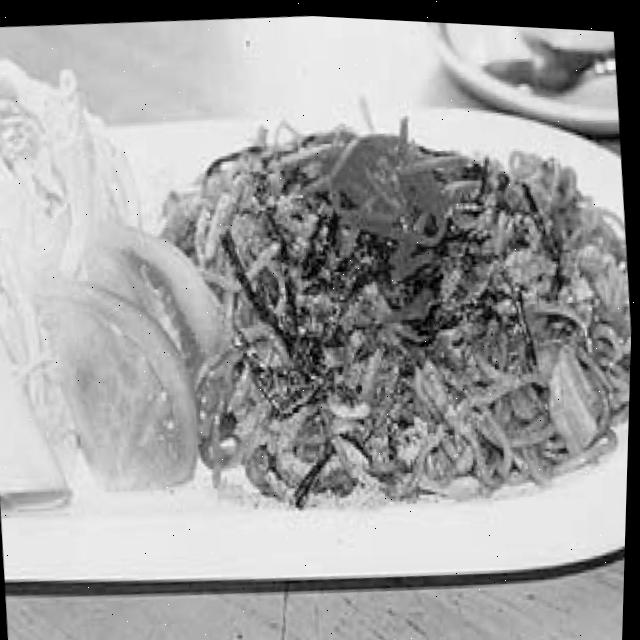面条主食: (190, 81, 638, 546)
